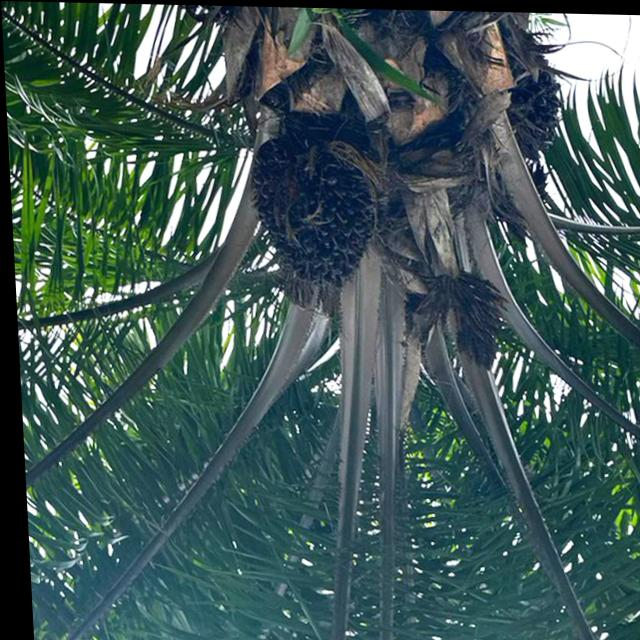almost: (240, 123, 388, 294)
